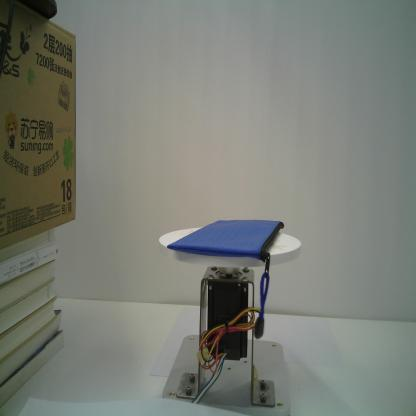Stationery: (165, 216, 287, 340)
